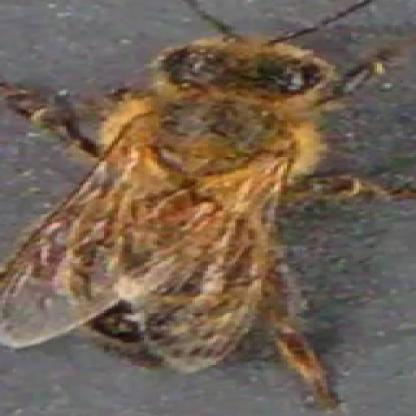bee: (67, 32, 322, 372)
